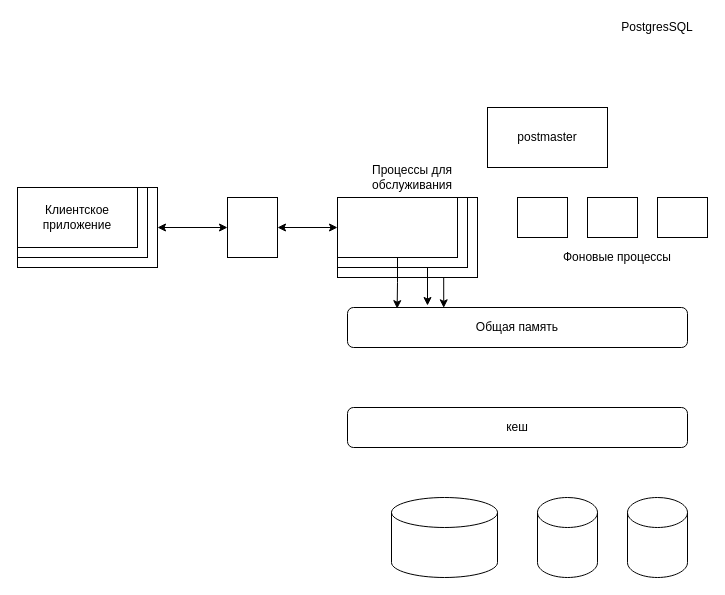
This 725x595 diagram has some shape labels left out. The box of each missing label's shape, as (x1, y1, x2, y2) in pixels:
backend: (336, 196, 458, 258)
пул: (226, 196, 278, 258)
